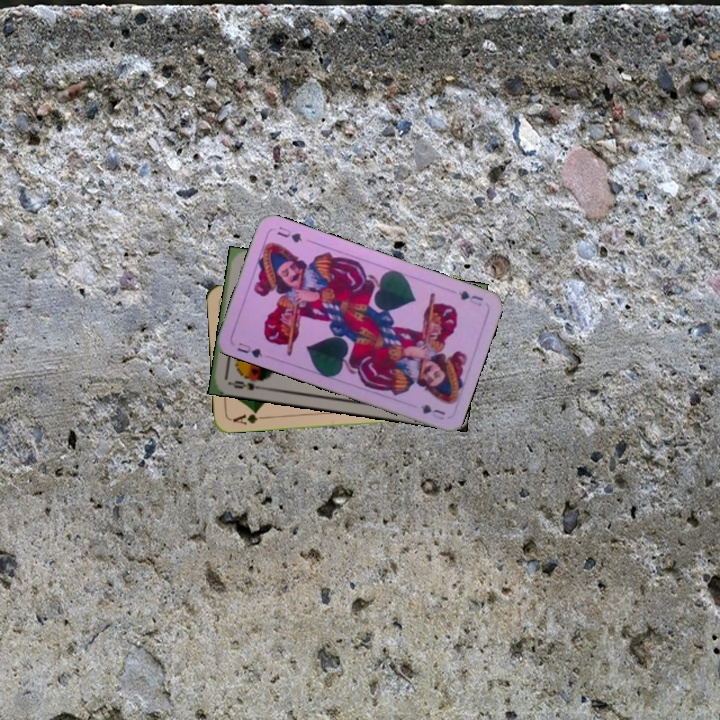GA: (229, 407, 268, 427)
GU: (454, 286, 486, 309), (233, 338, 265, 360)
SO: (225, 377, 265, 393)
